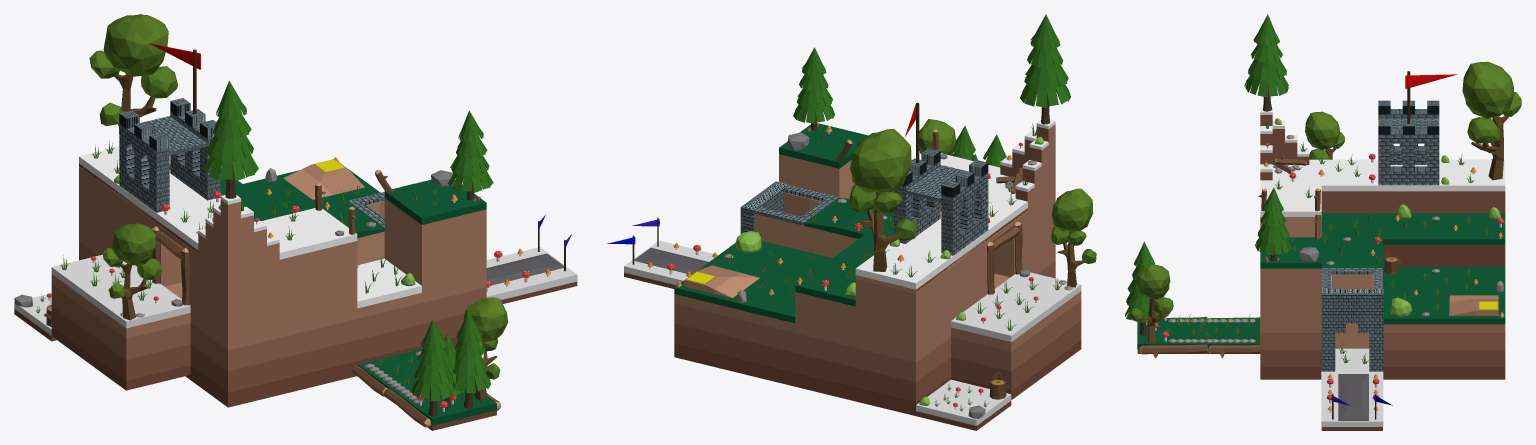
File: MAPA101.fbx
3 renders of one model, left to right at view 1: azimuth 30°, elevation 25°; view 2: azimuth 150°, elevation 25°; view 3: azimuth 270°, elevation 25°, orthographic. The views are drawn at different scales.
Visible parts, largest first — view 1: Cube, Tree1, Cubo.016, Cubo.021, Cubo.033, Tree2.002, Tree1.001, Cubo.018, Cubo.020, Cubo, Cubo.002, Tree2.001 (+13 smaller); view 2: Cube, Tree1, Cubo.014, Cubo.033, Cubo.016, Cubo.021, Tree2.002, Cubo.007, Tree1.001, Cubo.017, Cubo.020, Cubo (+10 smaller); view 3: Cube, Cubo.014, Cubo.007, Cubo.033, Tree1, Cubo.041, Cubo.020, Cubo.023, Cubo.018, Tree2.002, Tree1.002, Cubo.004 (+12 smaller).
Boxes of the visible parts, <box> form: Cube: <box>14,159,577,430</box>; Tree1: <box>89,14,177,133</box>; Cubo.016: <box>51,254,190,328</box>; Cubo.021: <box>119,110,169,212</box>; Cubo.033: <box>79,146,292,259</box>; Tree2.002: <box>203,81,258,198</box>; Tree1.001: <box>102,223,162,323</box>; Cubo.018: <box>357,349,496,425</box>; Cubo.020: <box>170,98,220,200</box>; Cubo: <box>384,180,486,224</box>; Cubo.002: <box>261,208,357,256</box>; Tree2.001: <box>411,319,455,416</box>; Cube: <box>624,124,1081,430</box>; Tree1: <box>849,129,916,271</box>; Cubo.014: <box>674,241,832,323</box>; Cubo.033: <box>855,166,1027,289</box>; Cubo.016: <box>951,272,1081,341</box>; Cubo.021: <box>941,160,988,255</box>; Tree2.002: <box>1020,14,1070,124</box>; Cubo.007: <box>795,213,893,306</box>; Tree1.001: <box>1051,188,1096,287</box>; Cubo.017: <box>916,379,1011,425</box>; Cubo.020: <box>893,148,940,243</box>; Cubo: <box>779,123,868,168</box>; Cube: <box>1137,115,1505,430</box>; Cubo.014: <box>1383,267,1505,324</box>; Cubo.007: <box>1321,213,1505,244</box>; Cubo.033: <box>1260,159,1505,191</box>; Tree1: <box>1462,61,1521,180</box>; Cubo.041: <box>1321,289,1383,371</box>; Cubo.020: <box>1378,121,1439,185</box>; Cubo.023: <box>1321,348,1383,426</box>; Cubo.018: <box>1137,318,1259,349</box>; Tree2.002: <box>1244,14,1288,111</box>; Tree1.002: <box>1130,264,1173,343</box>; Cubo.004: <box>1321,239,1382,267</box>.
Size of the model in its own units: 14843 by 9555 by 12965.
Materials: 293 (6 with a texture image).
